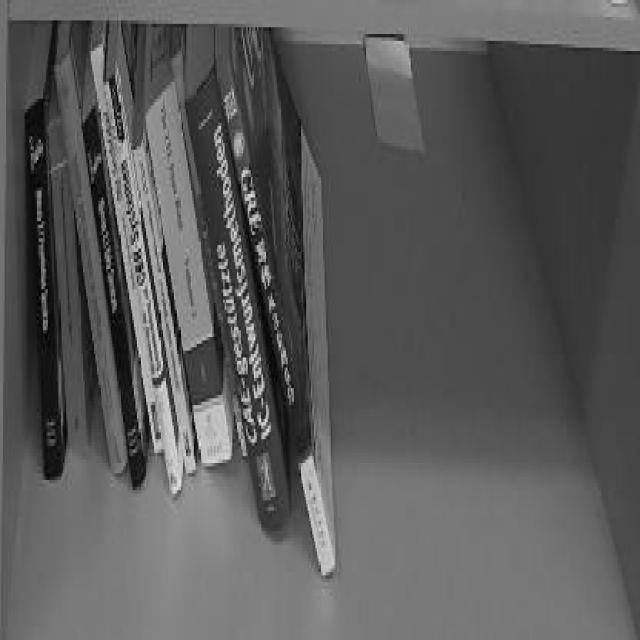book: (220, 19, 346, 580), (184, 75, 286, 546), (20, 107, 69, 490), (134, 68, 140, 92)
